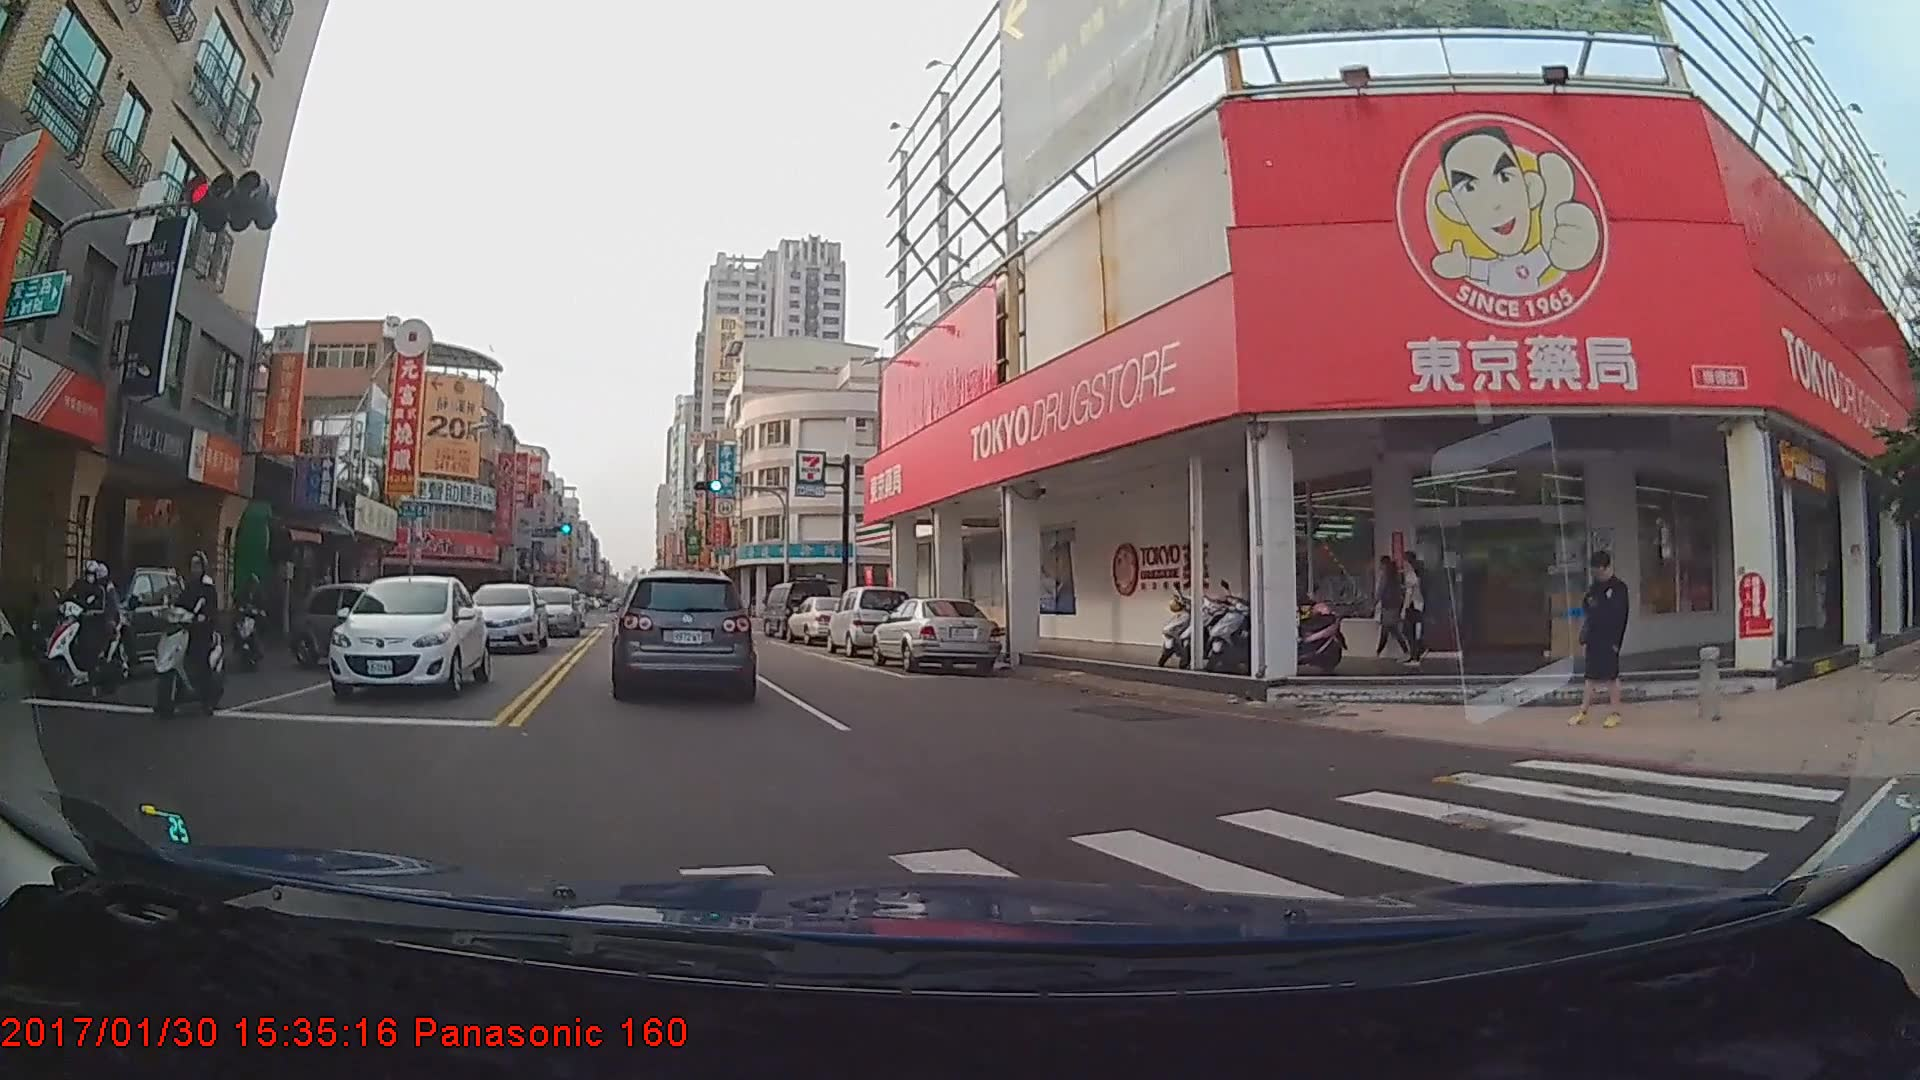pedestrian: (1571, 550, 1638, 731), (1374, 552, 1415, 665), (1400, 550, 1429, 669)
rider: (142, 550, 237, 723), (30, 559, 141, 700)
vehicle: (327, 575, 491, 702), (27, 562, 194, 682), (617, 570, 752, 700), (287, 580, 439, 670), (869, 597, 1002, 676), (827, 586, 914, 659), (464, 583, 549, 654), (766, 582, 831, 638), (787, 595, 865, 641), (526, 588, 579, 640)
